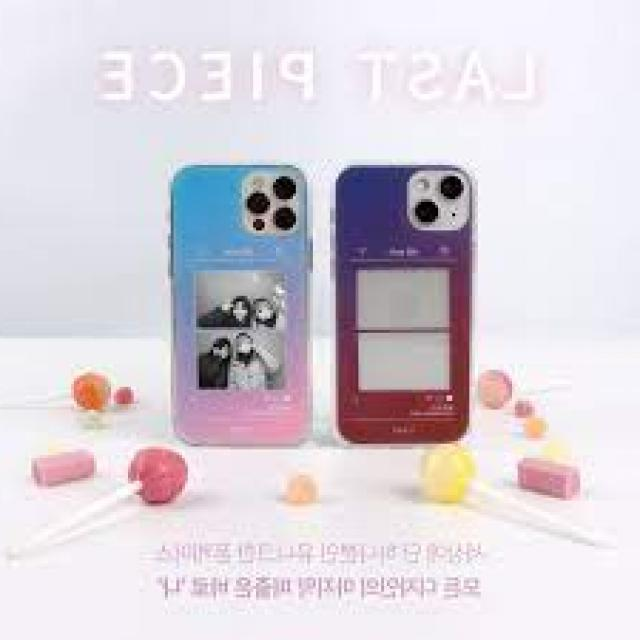mobile: (167, 160, 312, 449), (330, 163, 472, 448)
